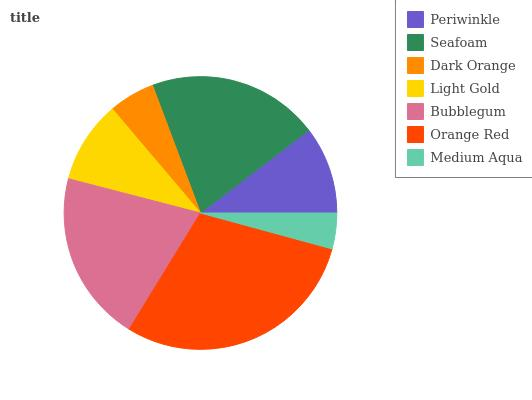legend: (396, 0, 532, 177)
sector: (126, 212, 330, 352), (47, 179, 199, 329), (152, 72, 308, 212), (67, 107, 201, 212), (202, 132, 339, 213), (113, 85, 201, 211), (201, 212, 338, 249)
